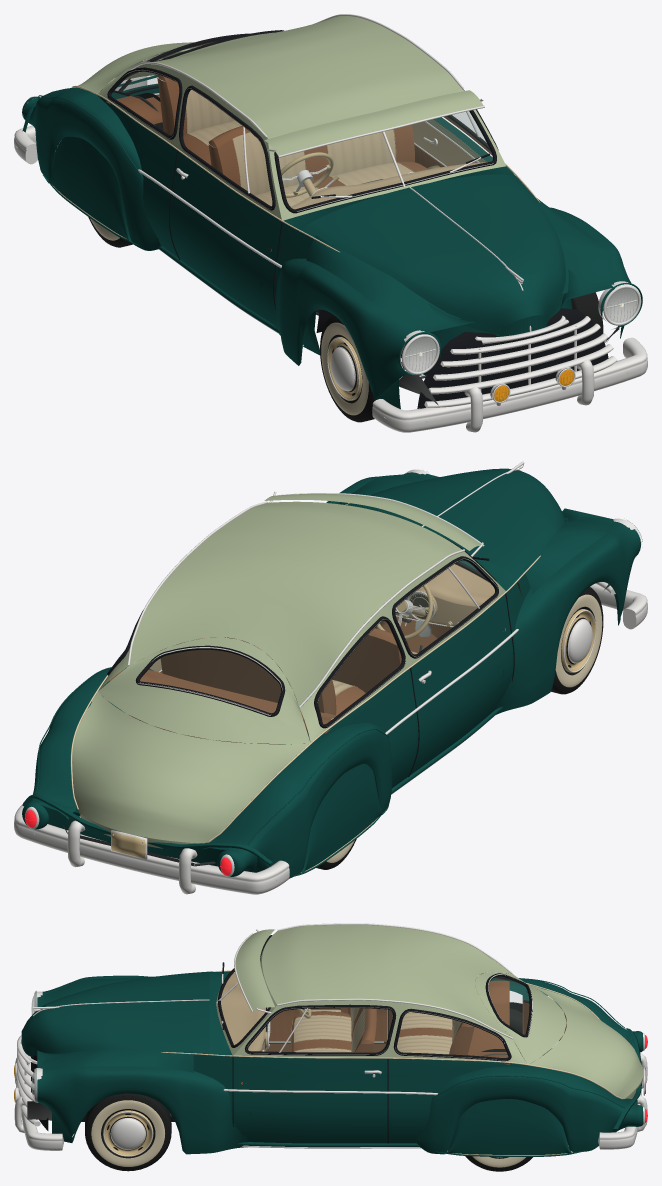
Rendered from media-luna.glb.
3 views of the same model, one above another, from view 1: azimuth 30°, elevation 25°; view 2: azimuth 150°, elevation 25°; view 3: azimuth 270°, elevation 25° (orthographic). The views are drawn at different scales.
Visible parts, largest first — view 1: hood.luna.petrol_lacquer, body.luna.sage_lacquer, fender.luna.petrol_lacquer, glass.luna.cabin_glass (×2), body.luna.petrol_lacquer, door.luna.petrol_lacquer, cabin.luna.cream_broadcloth (×2), bumper.luna.polished_chrome, grille.luna.polished_chrome, grille.luna.black_recess, cabin.luna.tobacco_cloth, glass.luna.black_recess (×2) (+18 smaller); view 2: body.luna.sage_lacquer, fender.luna.petrol_lacquer, trunk.luna.sage_lacquer, glass.luna.cabin_glass (×2), glass.luna.sage_lacquer (×2), body.luna.petrol_lacquer, hood.luna.petrol_lacquer, door.luna.petrol_lacquer, cabin.luna.tobacco_cloth, bumper.luna.polished_chrome, skirt.luna.petrol_lacquer, glass.luna.black_recess (×2) (+12 smaller); view 3: fender.luna.petrol_lacquer, body.luna.sage_lacquer, door.luna.petrol_lacquer, hood.luna.petrol_lacquer, glass.luna.cabin_glass (×2), body.luna.petrol_lacquer, skirt.luna.petrol_lacquer, glass.luna.sage_lacquer (×2), cabin.luna.tobacco_cloth (×2), trunk.luna.sage_lacquer, cabin.luna.cream_broadcloth, glass.luna.black_recess (×2) (+17 smaller).
Part boxes in pixels (left/top/right/bottom): hood.luna.petrol_lacquer: left=301, top=174, right=565, bottom=338; body.luna.sage_lacquer: left=93, top=16, right=462, bottom=137; fender.luna.petrol_lacquer: left=22, top=87, right=631, bottom=408; glass.luna.cabin_glass (×2): left=111, top=39, right=492, bottom=208; body.luna.petrol_lacquer: left=22, top=75, right=642, bottom=375; door.luna.petrol_lacquer: left=170, top=151, right=281, bottom=323; cabin.luna.cream_broadcloth (×2): left=186, top=90, right=477, bottom=206; bumper.luna.polished_chrome: left=14, top=93, right=647, bottom=432; grille.luna.polished_chrome: left=424, top=315, right=617, bottom=407; grille.luna.black_recess: left=417, top=308, right=608, bottom=408; cabin.luna.tobacco_cloth: left=106, top=74, right=428, bottom=188; glass.luna.black_recess (×2): left=107, top=30, right=496, bottom=213; body.luna.sage_lacquer: left=93, top=501, right=461, bottom=753; fender.luna.petrol_lacquer: left=22, top=472, right=640, bottom=878; trunk.luna.sage_lacquer: left=72, top=700, right=300, bottom=848; glass.luna.cabin_glass (×2): left=121, top=561, right=494, bottom=723; glass.luna.sage_lacquer (×2): left=98, top=551, right=505, bottom=744; body.luna.petrol_lacquer: left=22, top=473, right=642, bottom=872; hood.luna.petrol_lacquer: left=346, top=468, right=565, bottom=579; door.luna.petrol_lacquer: left=410, top=594, right=513, bottom=775; cabin.luna.tobacco_cloth: left=110, top=628, right=410, bottom=733; bumper.luna.polished_chrome: left=14, top=583, right=647, bottom=894; skirt.luna.petrol_lacquer: left=293, top=764, right=387, bottom=876; glass.luna.black_recess (×2): left=107, top=509, right=498, bottom=728; fender.luna.petrol_lacquer: left=37, top=975, right=643, bottom=1154; body.luna.sage_lacquer: left=262, top=924, right=573, bottom=1066; door.luna.petrol_lacquer: left=233, top=1056, right=388, bottom=1143; hood.luna.petrol_lacquer: left=21, top=971, right=209, bottom=1057; glass.luna.cabin_glass (×2): left=221, top=971, right=528, bottom=1057; body.luna.petrol_lacquer: left=33, top=971, right=641, bottom=1143; skirt.luna.petrol_lacquer: left=436, top=1099, right=582, bottom=1156; glass.luna.sage_lacquer (×2): left=216, top=948, right=566, bottom=1064; cabin.luna.tobacco_cloth (×2): left=267, top=977, right=509, bottom=1064; trunk.luna.sage_lacquer: left=539, top=987, right=643, bottom=1099; cabin.luna.cream_broadcloth: left=294, top=983, right=489, bottom=1054; glass.luna.black_recess (×2): left=218, top=935, right=532, bottom=1061.
Size of the model in its own units: 1.88 by 1.53 by 5.03.
Materials: 37 (3 with a texture image).
